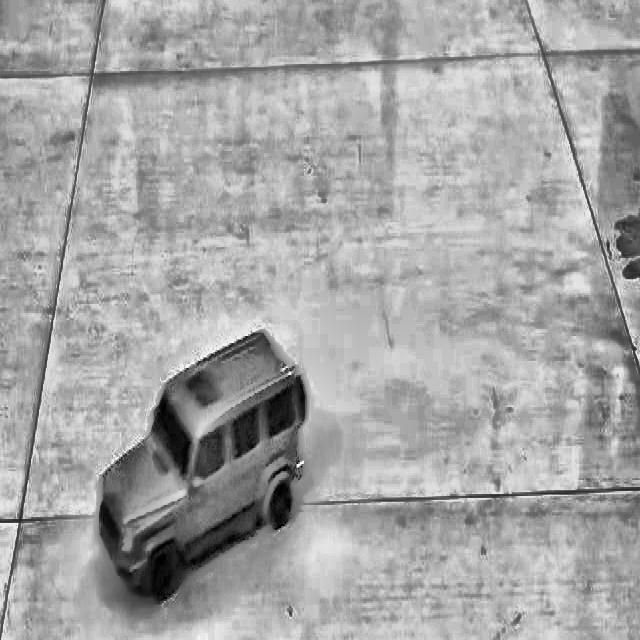light_vehicle: (100, 322, 304, 600)
